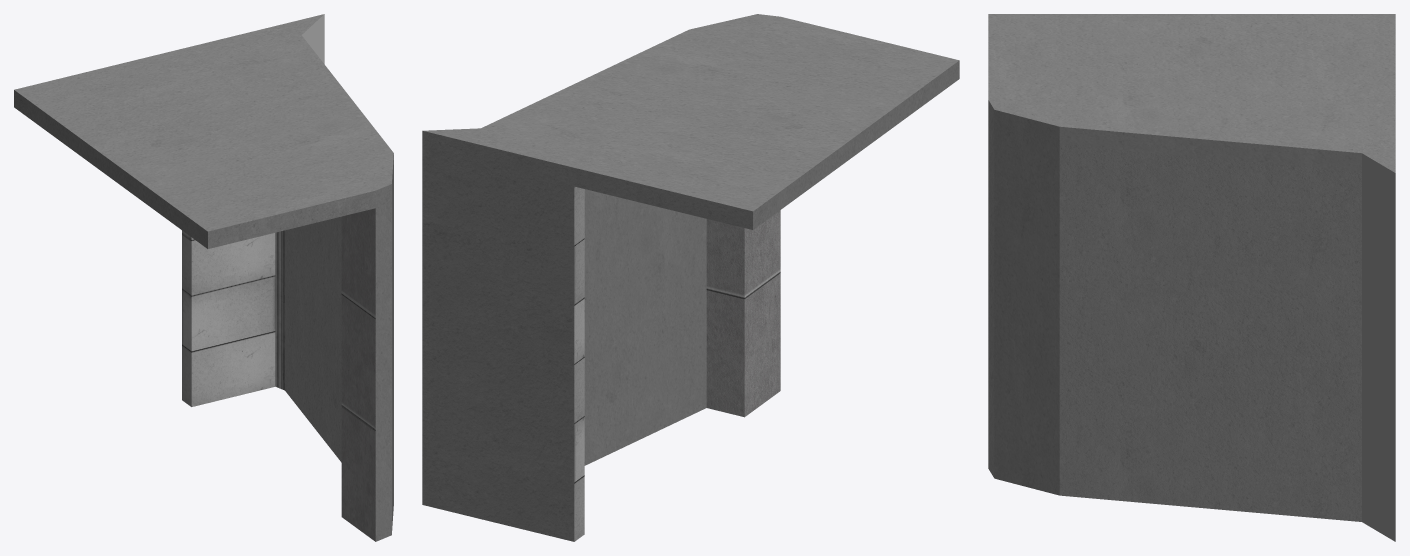
Rendered from Side_room_corner_bottom_R.fbx.
The picture shows the model from 3 angles, left to right: view 1: azimuth 30°, elevation 25°; view 2: azimuth 150°, elevation 25°; view 3: azimuth 270°, elevation 25°; orthographic projection. The views are drawn at different scales.
Visible parts, largest first — view 1: Side_room_corner_bottom_R; view 2: Side_room_corner_bottom_R; view 3: Side_room_corner_bottom_R.
Part boxes in pixels (<box>): Side_room_corner_bottom_R: <box>14,14,393,541</box>; Side_room_corner_bottom_R: <box>422,14,959,541</box>; Side_room_corner_bottom_R: <box>988,14,1395,541</box>.
Size of the model in its own units: 3.7 by 4 by 4.
